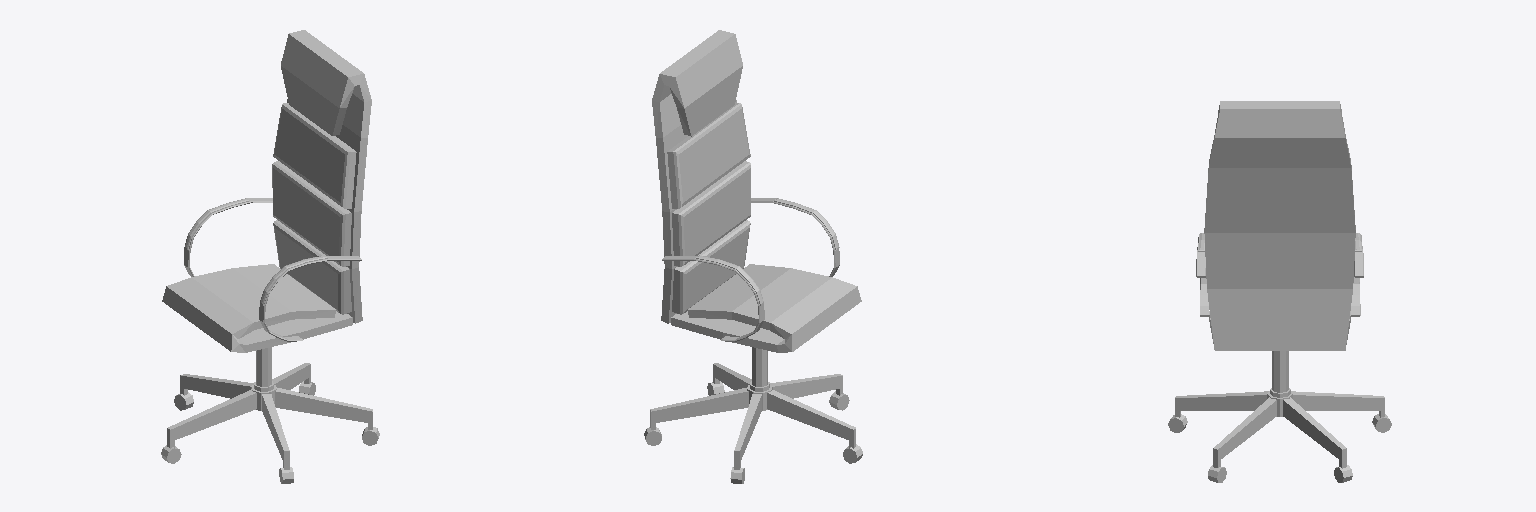
File: office chair.obj
3 views of the same model, side by side, from view 1: azimuth 30°, elevation 25°; view 2: azimuth 150°, elevation 25°; view 3: azimuth 270°, elevation 25° (orthographic).
Visible parts, largest first — view 1: Office_Chair; view 2: Office_Chair; view 3: Office_Chair.
Part boxes in pixels (bbox=[...]): Office_Chair: bbox=[161, 30, 379, 483]; Office_Chair: bbox=[644, 30, 862, 483]; Office_Chair: bbox=[1168, 101, 1391, 482].
Bounding box in the file's own units: 73.83 × 141 × 77.57.